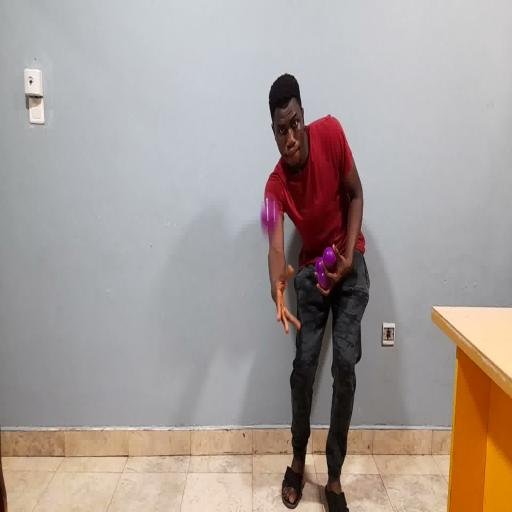plastic-ball: (259, 191, 279, 237)
